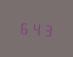four: (30, 19, 40, 37)
six: (18, 18, 28, 36)
three: (41, 20, 51, 38)
